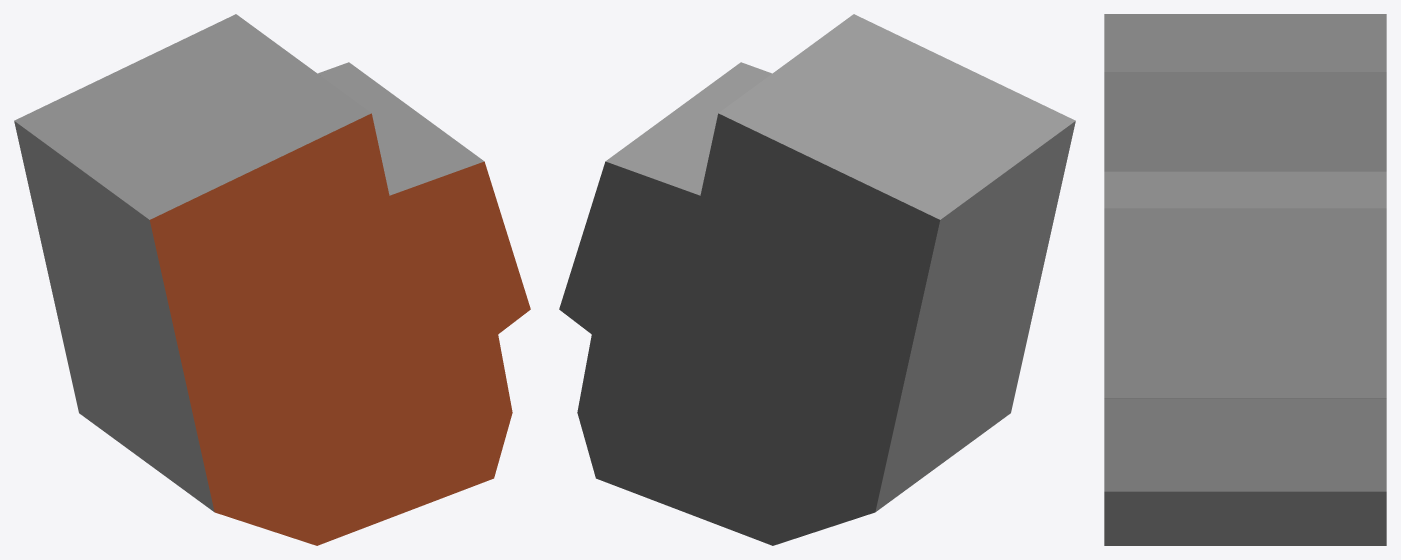
Rendered from construction_5167_assumed_A_Casa_h6m.obj.
3 views of the same model, side by side, from view 1: azimuth 30°, elevation 25°; view 2: azimuth 150°, elevation 25°; view 3: azimuth 270°, elevation 25° (orthographic). The views are drawn at different scales.
Visible parts, largest first — view 1: construction_5167_assumed_A_Casa; view 2: construction_5167_assumed_A_Casa; view 3: construction_5167_assumed_A_Casa.
Boxes of the visible parts, x1,y1,x2,y2 form: construction_5167_assumed_A_Casa: (14,14,530,545); construction_5167_assumed_A_Casa: (559,14,1075,545); construction_5167_assumed_A_Casa: (1104,14,1386,545).
Size of the model in its own units: 9.74 by 10.24 by 6.
